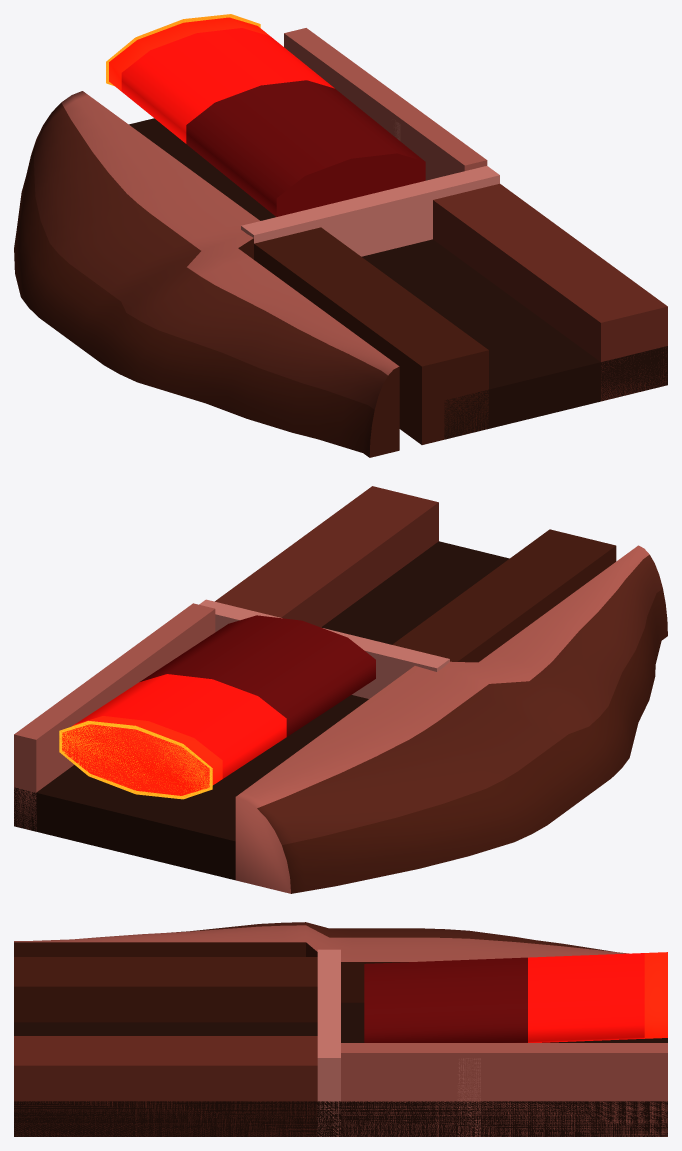
The model's file is newshf-191.glb.
3 renders of one model, top to bottom at view 1: azimuth 30°, elevation 25°; view 2: azimuth 150°, elevation 25°; view 3: azimuth 270°, elevation 25°, orthographic. The views are drawn at different scales.
Visible parts, largest first — view 1: newshf-191; view 2: newshf-191; view 3: newshf-191.
Boxes of the visible parts, x1,y1,x2,y2 form: newshf-191: (14, 14, 667, 457); newshf-191: (14, 486, 667, 893); newshf-191: (14, 922, 667, 1136).
Size of the model in its own units: 1.5 by 0.4678 by 2.33.
